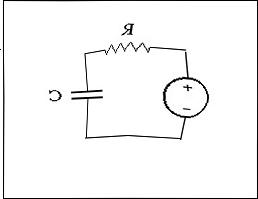Battery: (150, 69, 220, 127)
